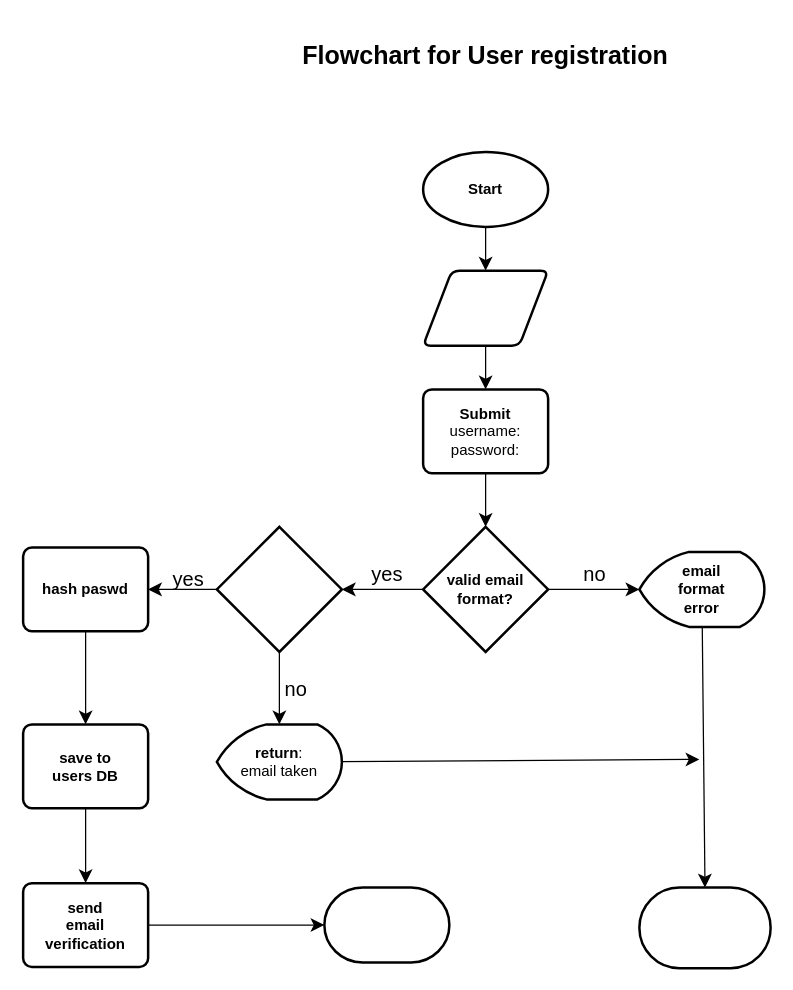
Image size: 793x990. Some labels were removed from this diagram. The box of each missing label's shape, as (x1, y1, x2, y2) in pixels:
email unique?: (215, 525, 342, 652)
Inputs username: password:: (421, 269, 549, 346)
Registration failed : return to login: (638, 886, 771, 969)
Registration successful: (322, 886, 450, 963)
